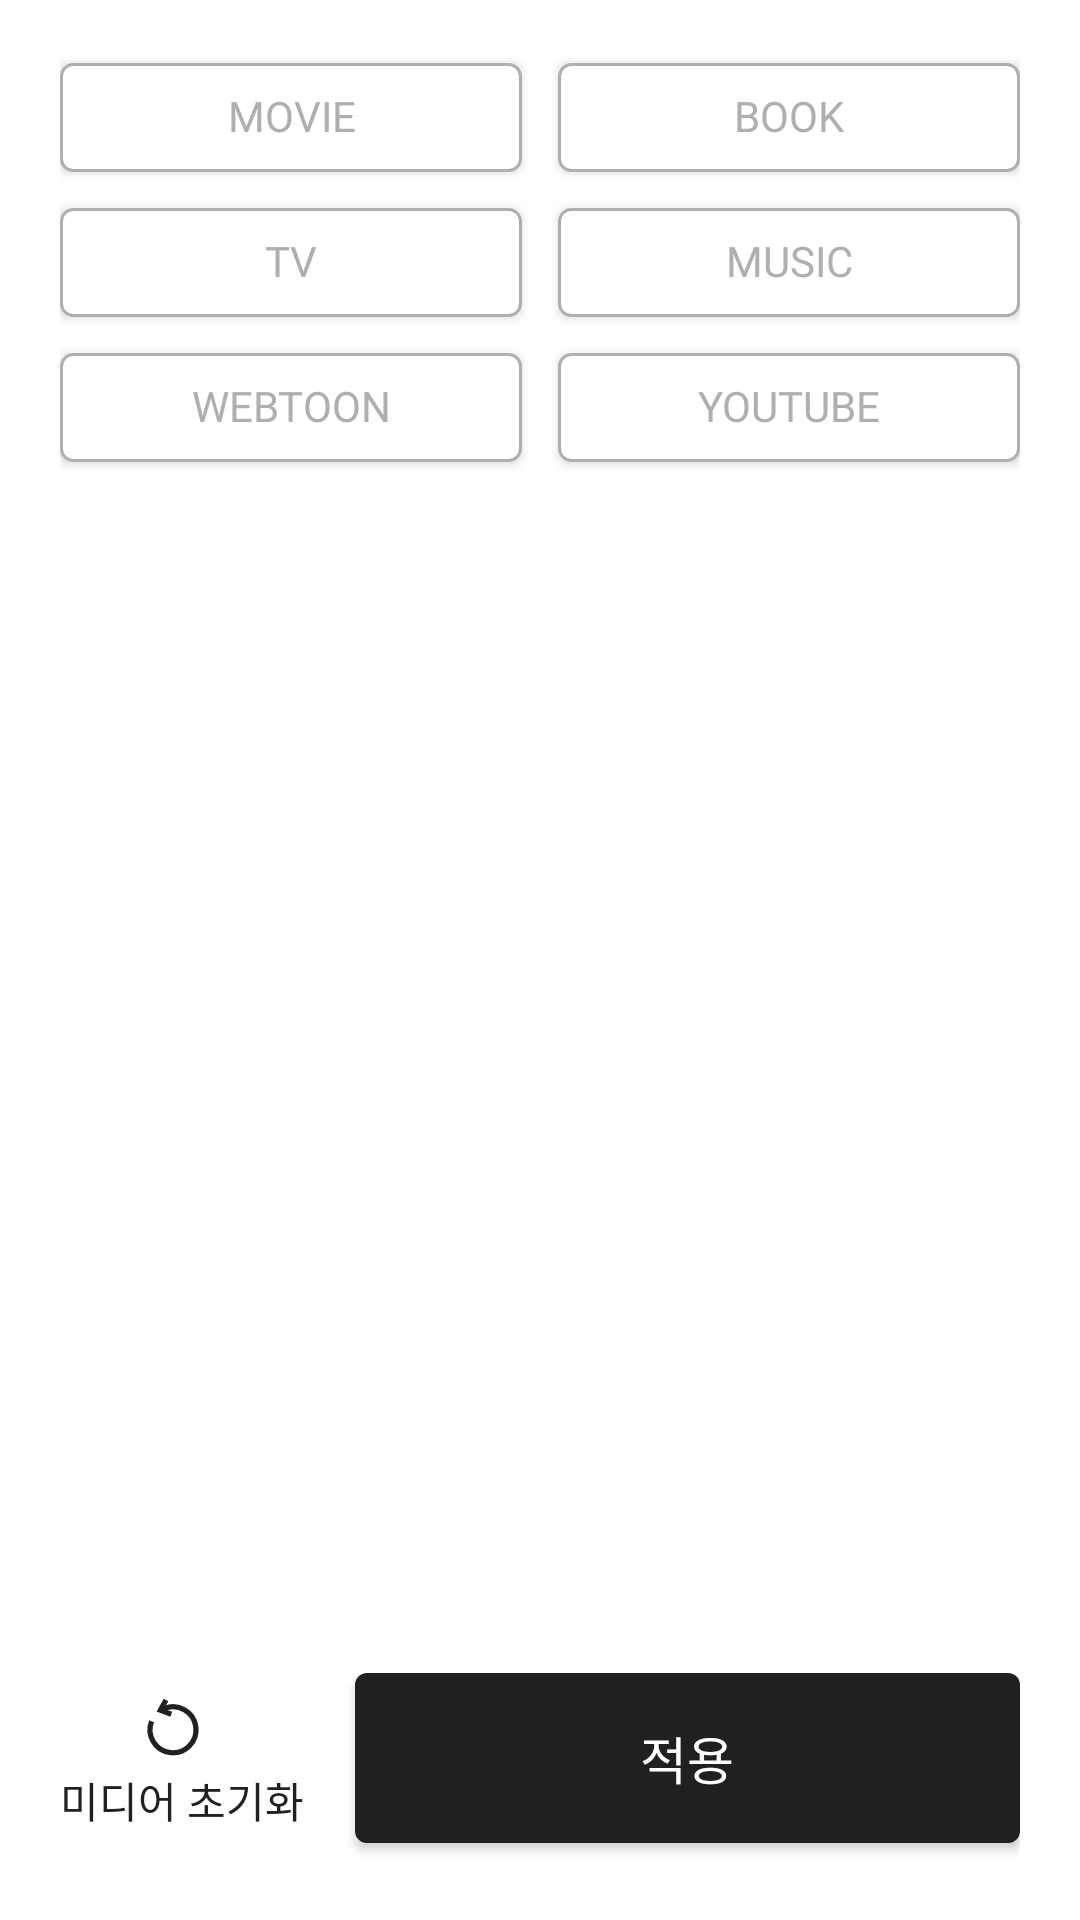

Icon click points for this 1080*1920 phone screenshot, format [x,y]:
resfresh: [173,1727]
